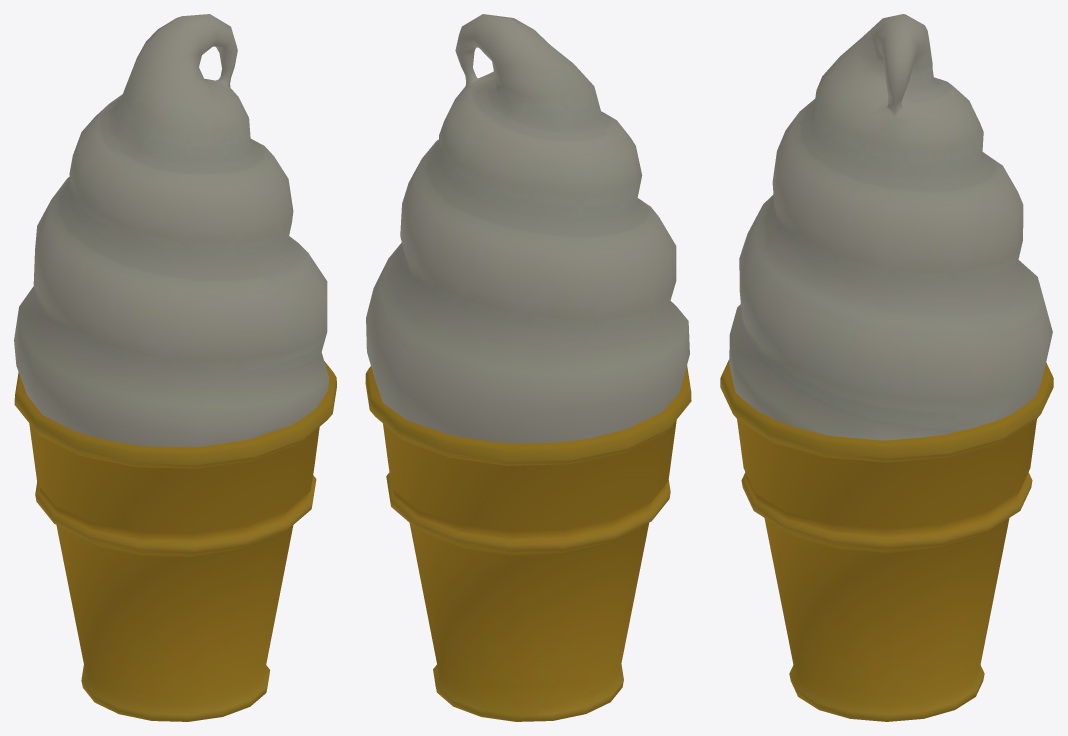
3 views of the same model, side by side, from view 1: azimuth 30°, elevation 25°; view 2: azimuth 150°, elevation 25°; view 3: azimuth 270°, elevation 25° (orthographic). The views are drawn at different scales.
Bounding box in the file's own units: 6.72 × 15.08 × 6.72.
Materials: 1 (1 with a texture image).
